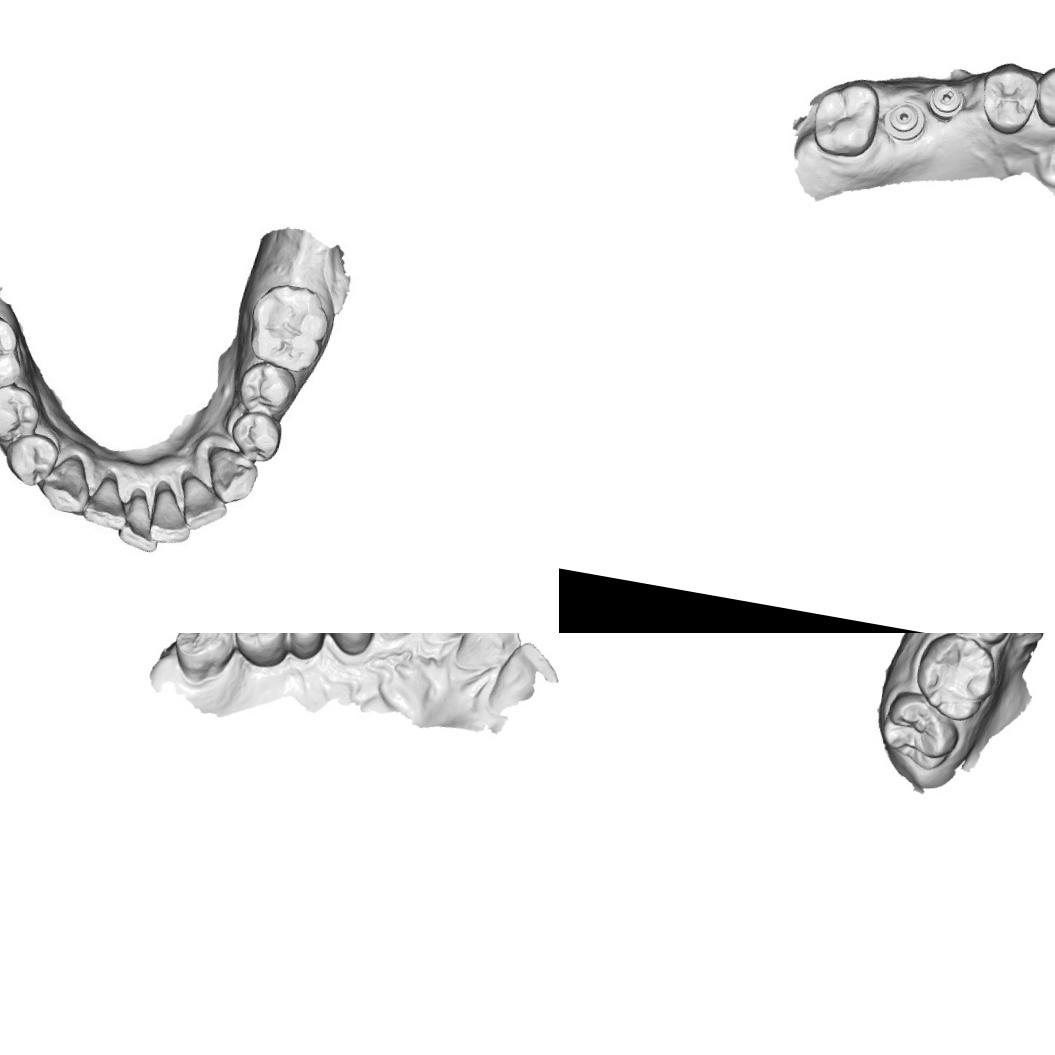canine: (32, 449, 98, 519), (198, 444, 264, 509), (1028, 57, 1055, 135)
implant: (879, 97, 928, 144)
implant_minus: (924, 78, 968, 123)
incisor: (484, 634, 559, 718), (449, 633, 528, 681), (175, 472, 232, 536), (114, 490, 166, 555), (80, 473, 134, 534), (146, 488, 198, 548), (419, 633, 480, 651)
molar: (240, 276, 338, 378), (908, 633, 1002, 726), (872, 685, 966, 775), (805, 74, 884, 162), (166, 633, 243, 688), (0, 302, 33, 411), (227, 633, 295, 671)
premolar: (973, 58, 1042, 138), (233, 358, 302, 421), (0, 427, 63, 491), (227, 406, 286, 465), (0, 379, 44, 449), (275, 633, 334, 664), (312, 633, 382, 659), (942, 633, 1017, 646)
